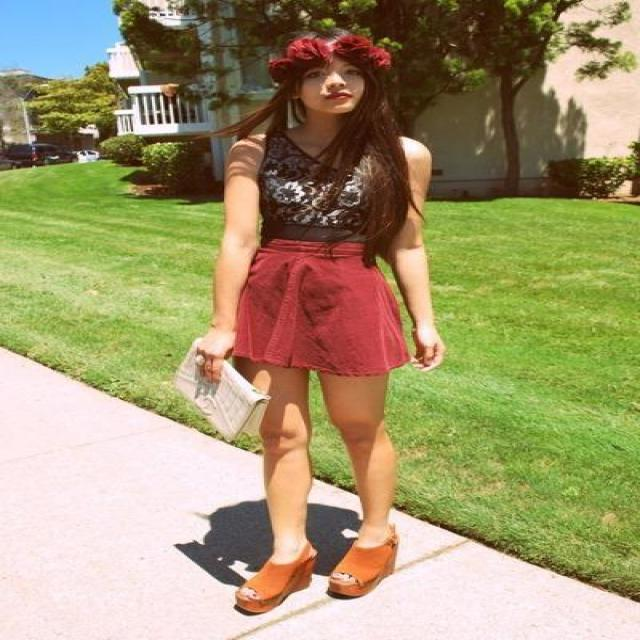bag: (173, 372, 269, 438)
shirt: (258, 148, 382, 237)
shoe: (213, 538, 397, 616)
skirt: (229, 218, 437, 380)
